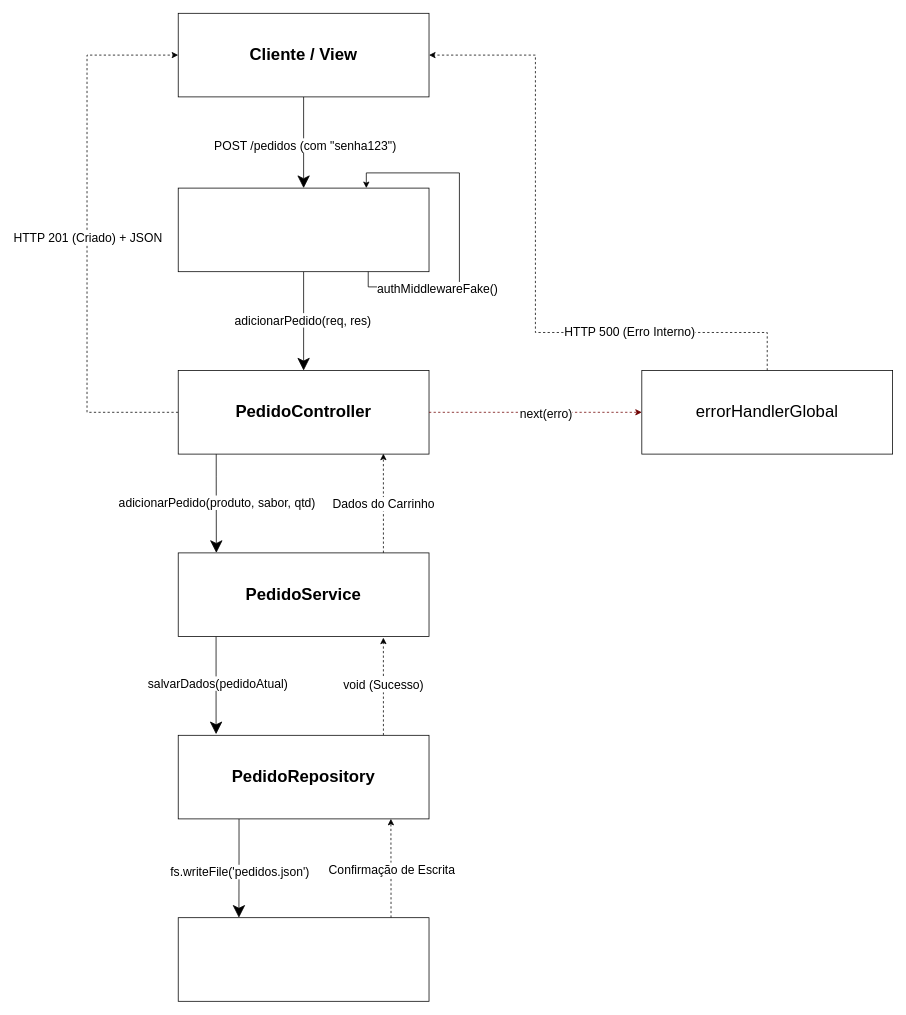
Image size: 906x1015. Some labels were removed from this diagram. The shapes that lost their labels are listed below. From the top down, each one's centre as x and y in pixels, then its label:
At (x=303, y=229): "Router & Middleware".
At (x=303, y=959): "Data/Database".
